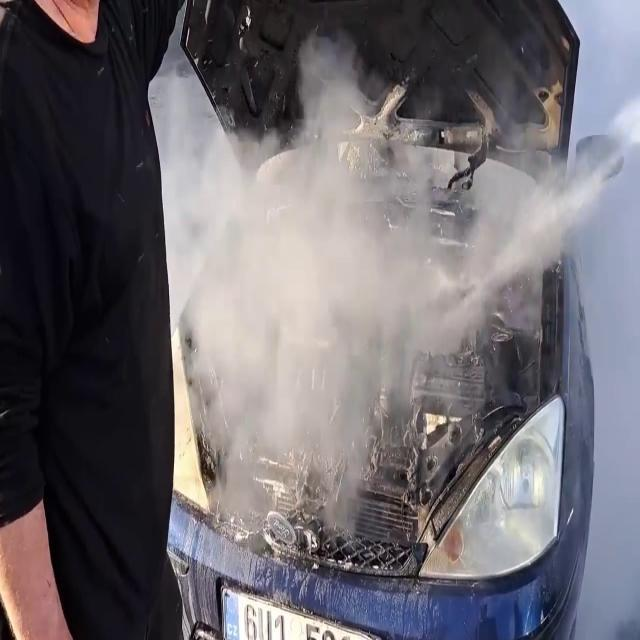Smoke: (136, 68, 510, 528)
